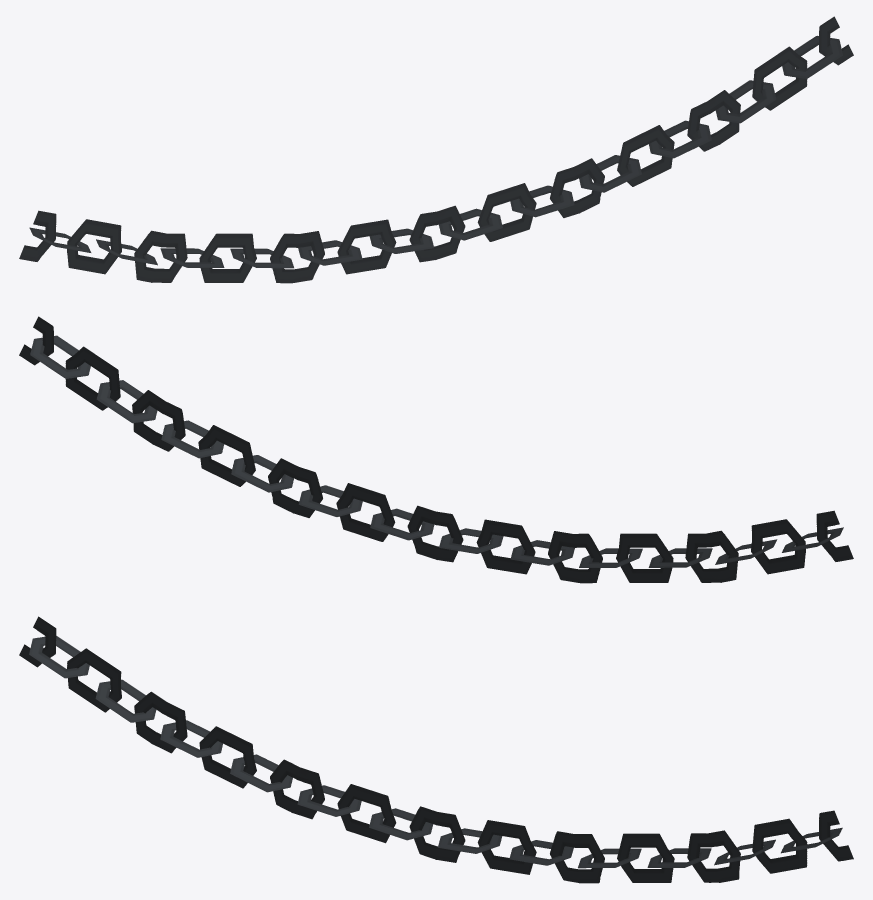
The model's file is SM_Bld_Railing_Chain_01.fbx.
3 views of the same model, one above another, from view 1: azimuth 30°, elevation 25°; view 2: azimuth 150°, elevation 25°; view 3: azimuth 330°, elevation 25° (orthographic).
Parts seen in each view (by area): view 1: SM_Bld_Railing_Chain_01; view 2: SM_Bld_Railing_Chain_01; view 3: SM_Bld_Railing_Chain_01.
Boxes of the visible parts, box(x1,y1,x2,y2) form: SM_Bld_Railing_Chain_01: box(19, 16, 853, 283); SM_Bld_Railing_Chain_01: box(19, 316, 853, 583); SM_Bld_Railing_Chain_01: box(19, 616, 853, 883).
Bounding box in the file's own units: 263 × 45.55 × 16.13.
